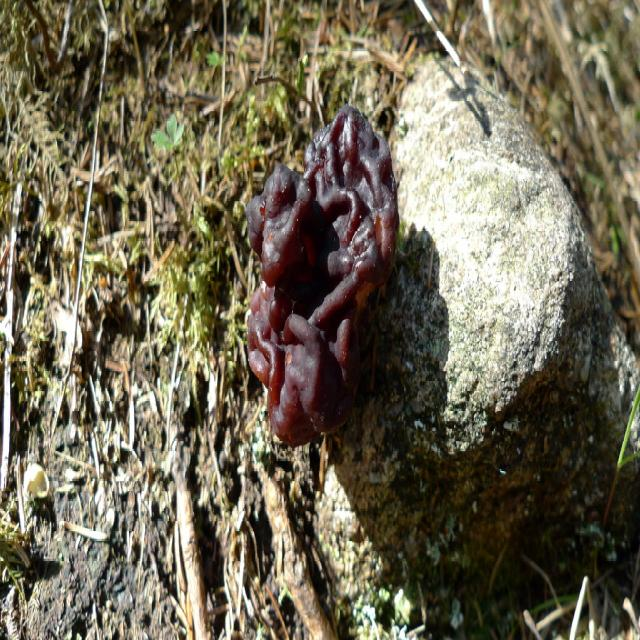Mushroom: (246, 101, 396, 438)
